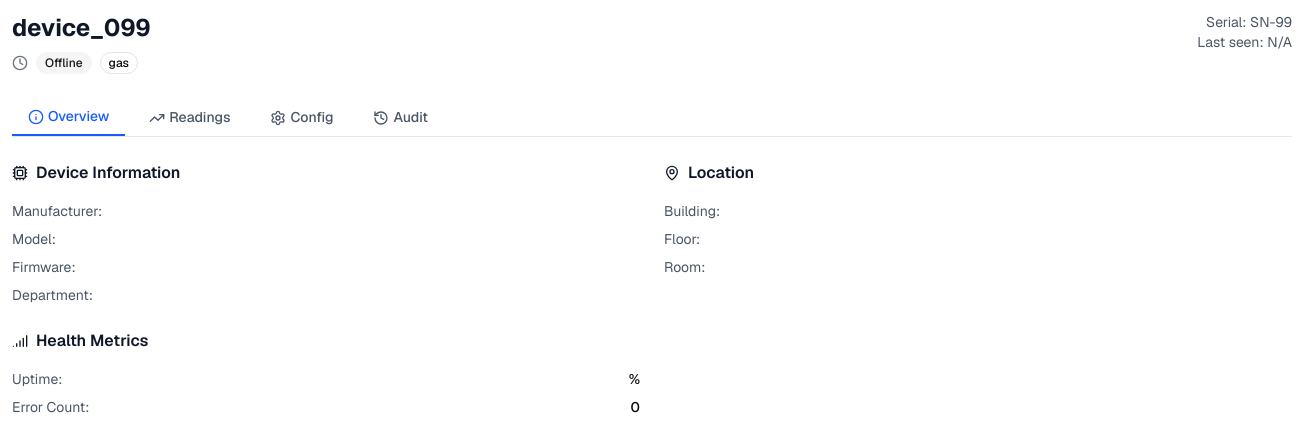
Scenario: DeviceDetailView › optional fields › should render a device that reports almost nothing
Expected: the heading "device_099" is shown, [12,12,151,44]
Expected: the text "Last seen: N/A" is shown, [1197,32,1292,52]
Step 1. Click the button "Config" → (302, 117), box [254,98,349,136]
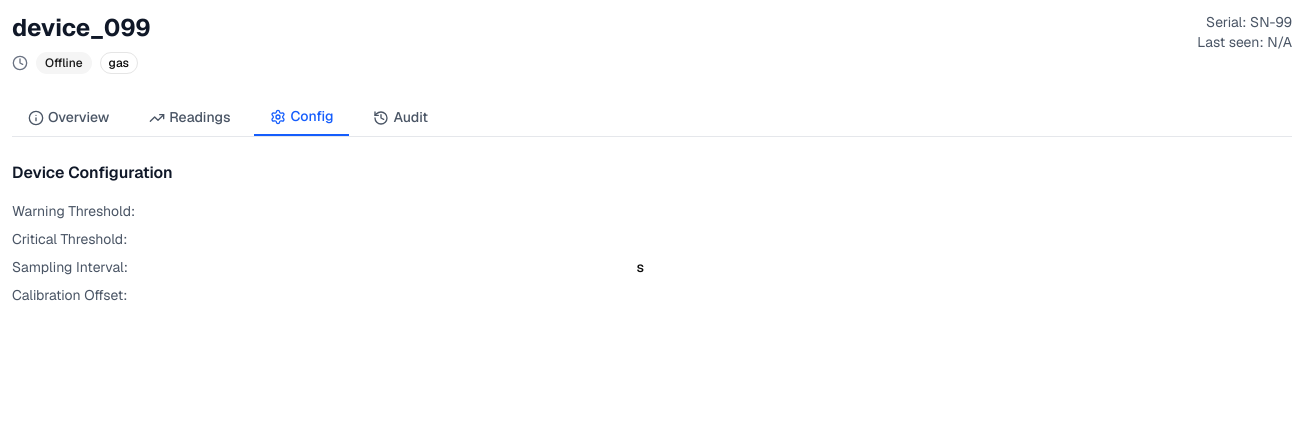
Result: the text "Warning Threshold:" is shown at [12,201,135,221]
